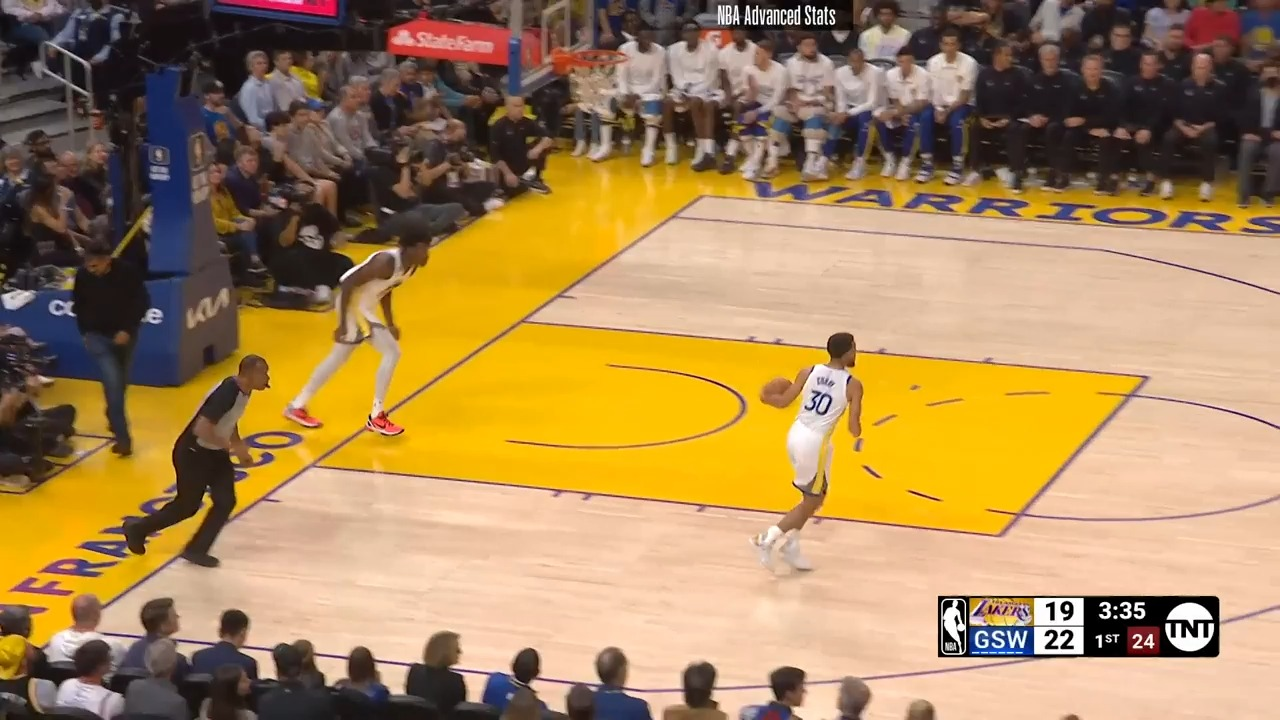net: (527, 41, 631, 116)
player: (286, 233, 443, 439), (752, 329, 877, 580)
referee: (111, 349, 270, 570)
